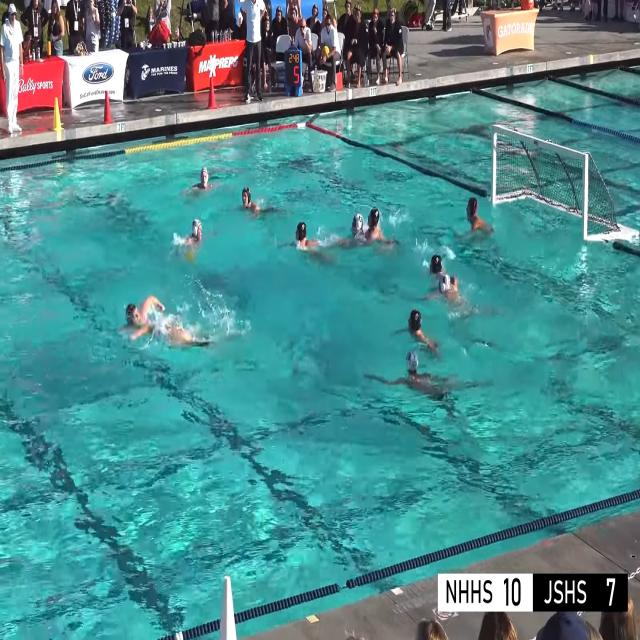ball: (186, 251, 194, 261), (322, 46, 329, 57)
